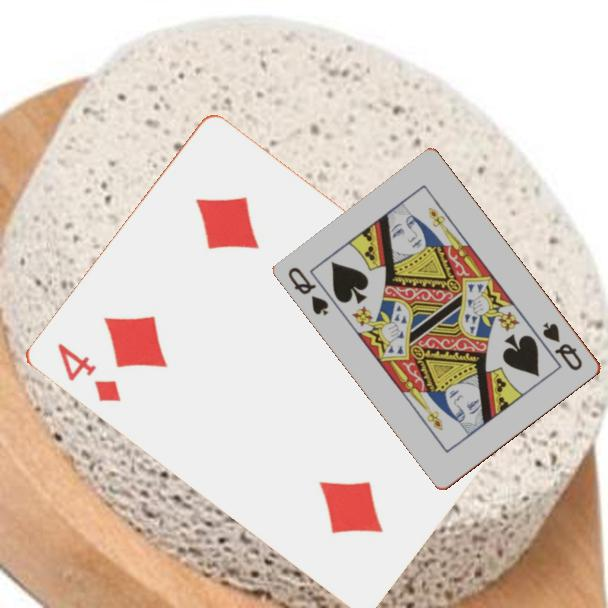d04: (53, 339, 124, 405)
s12: (285, 263, 332, 319), (539, 319, 586, 374)
